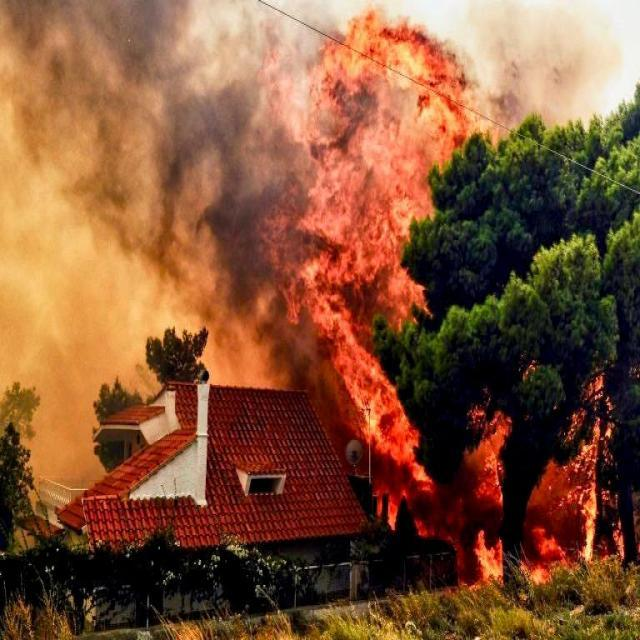Fire: (268, 0, 612, 588)
Smoke: (0, 0, 378, 464)
